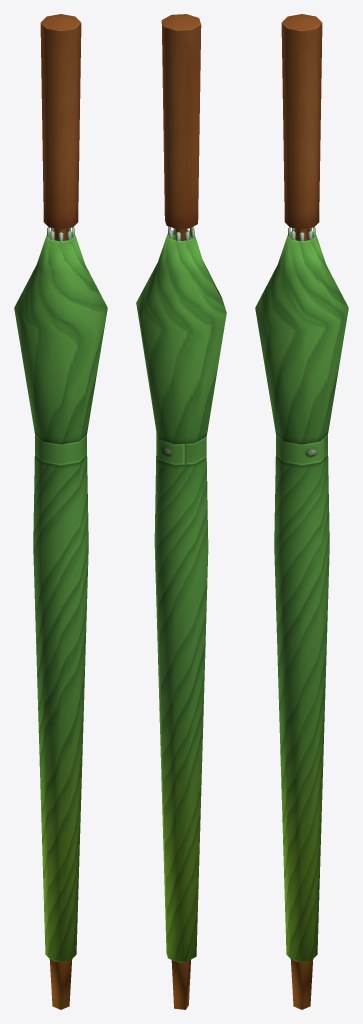
File: set_umbrella_03.fbx
3 views of the same model, side by side, from view 1: azimuth 90°, elevation 25°; view 2: azimuth 210°, elevation 25°; view 3: azimuth 270°, elevation 25° (orthographic).
Parts seen in each view (by area): view 1: set_umbrella_03; view 2: set_umbrella_03; view 3: set_umbrella_03.
Boxes of the visible parts, bbox=[...] form: set_umbrella_03: bbox=[14, 14, 107, 1009]; set_umbrella_03: bbox=[136, 14, 226, 1009]; set_umbrella_03: bbox=[255, 14, 348, 1009].
Bounding box in the file's own units: 7.05 × 82.16 × 7.05.
